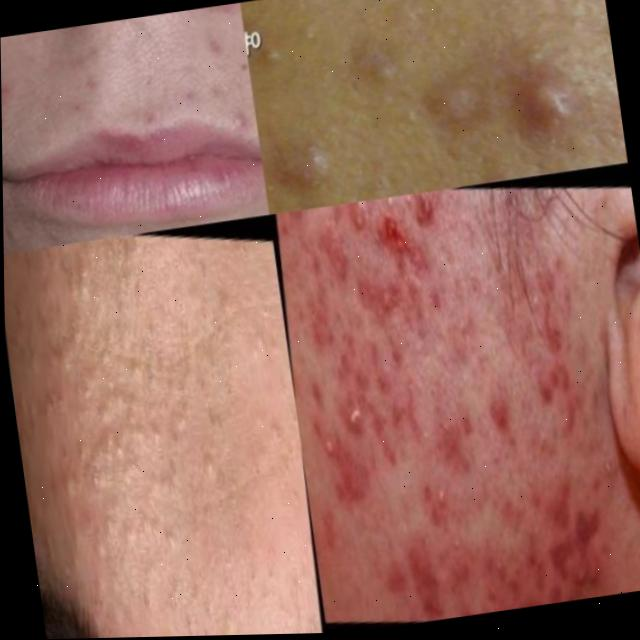Acne: (280, 170, 631, 634), (9, 232, 284, 621), (256, 2, 617, 203), (0, 25, 262, 153)
